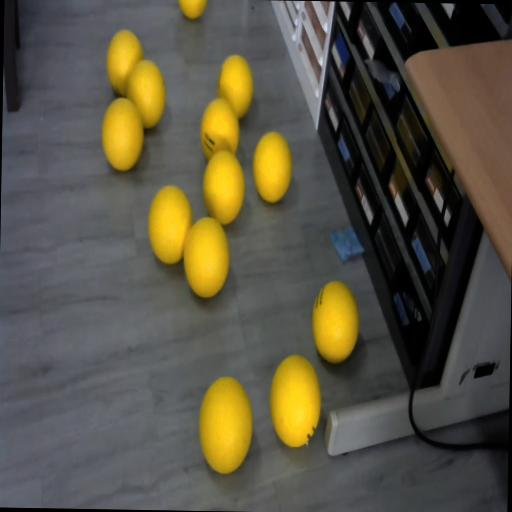FUEL: (197, 373, 254, 473), (268, 352, 323, 447), (310, 278, 360, 363), (181, 214, 231, 298), (146, 182, 194, 266), (99, 97, 145, 172), (202, 149, 246, 225), (252, 130, 292, 204), (106, 28, 144, 98), (217, 54, 255, 119), (177, 0, 208, 20)
